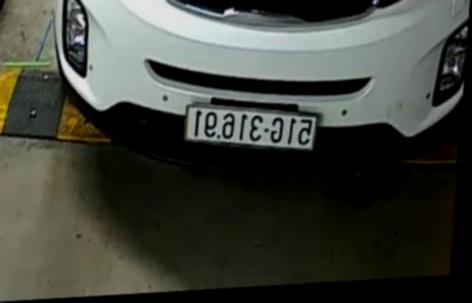License_Plate: (178, 101, 321, 160)
